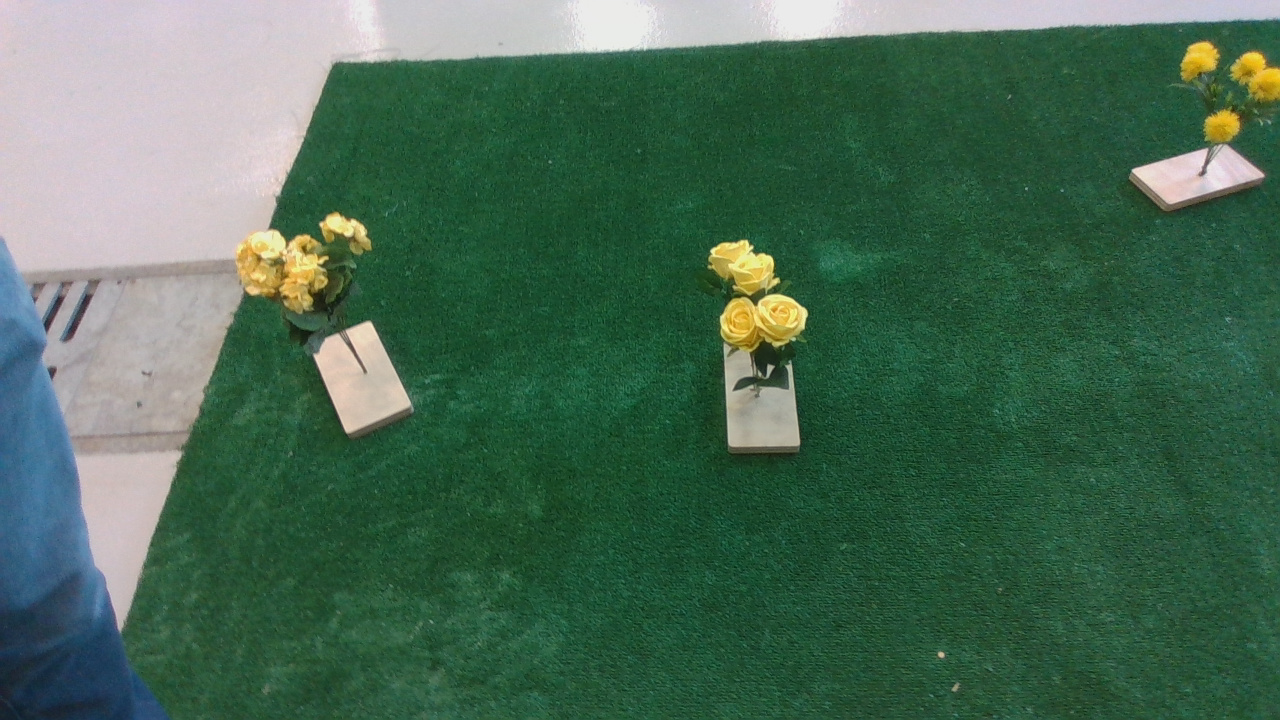dandelion: (1168, 30, 1280, 163)
geranium: (234, 211, 388, 342)
rose: (699, 233, 831, 392)
